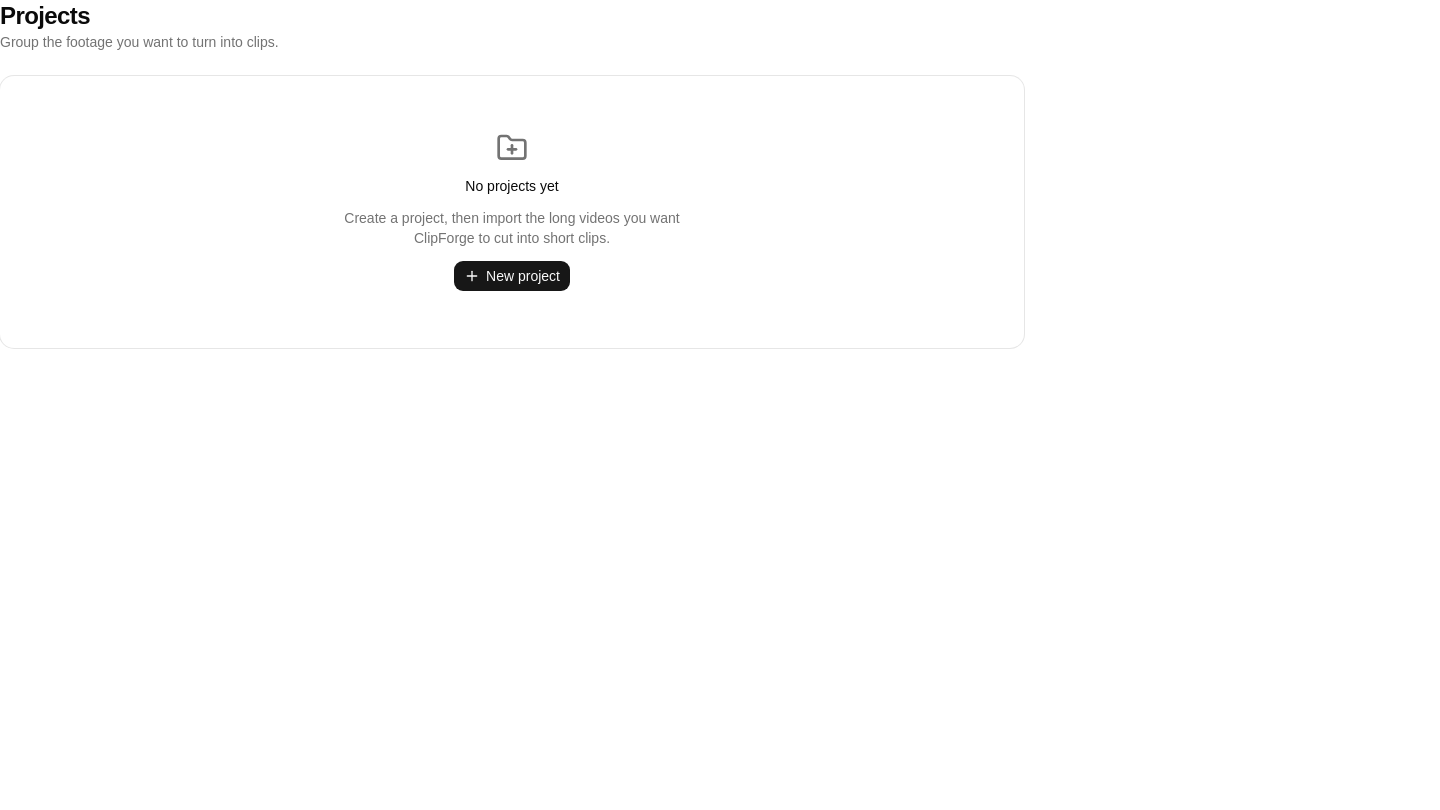
Scenario: ProjectList › creates a project and refreshes the list
The width and height of the screenshot is (1440, 810).
Step 1. Click the button "New project" → (512, 276), box left=453, top=260, right=571, bottom=292
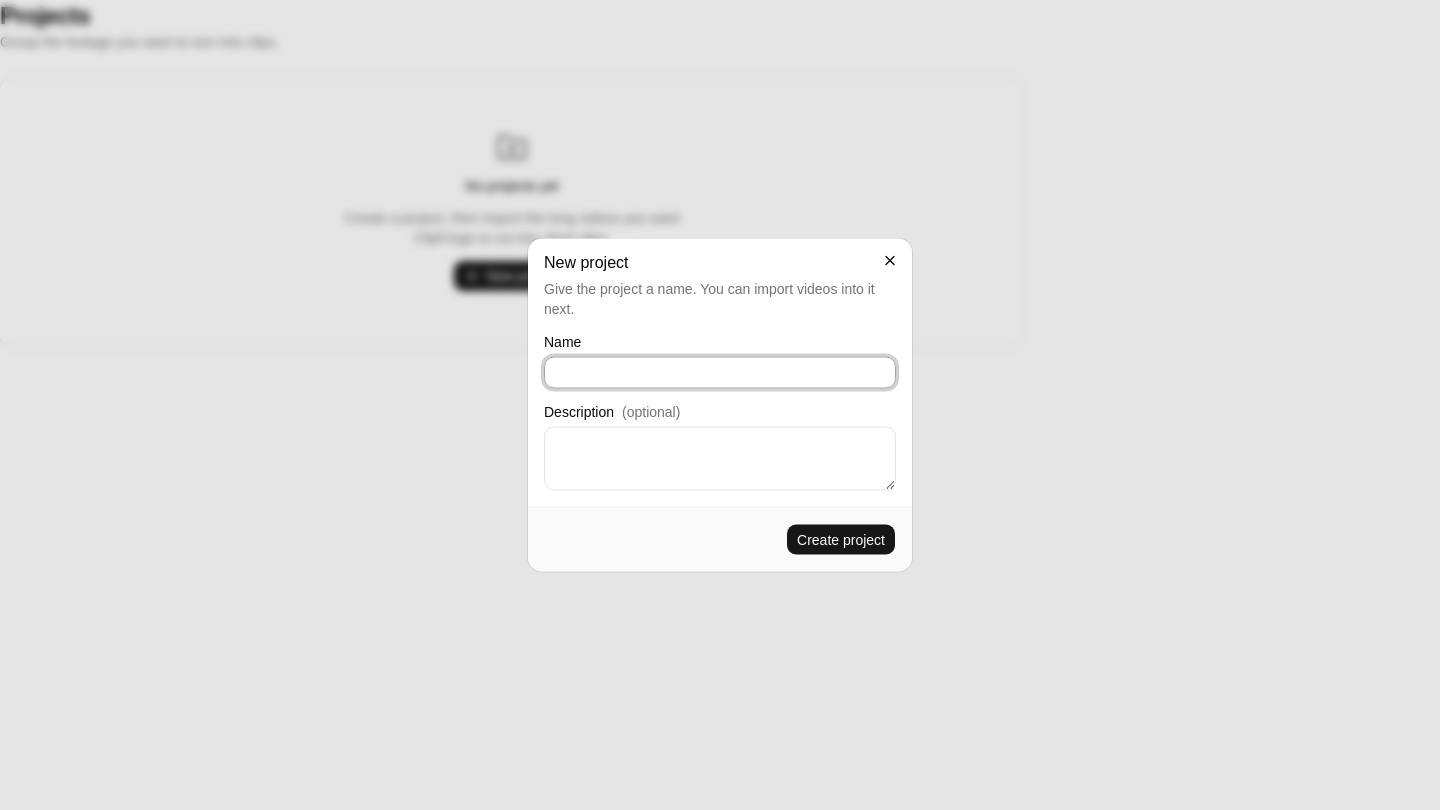
Step 2. Type "  Podcast  " into the field labelled "Name" → (720, 372), box left=544, top=356, right=896, bottom=388
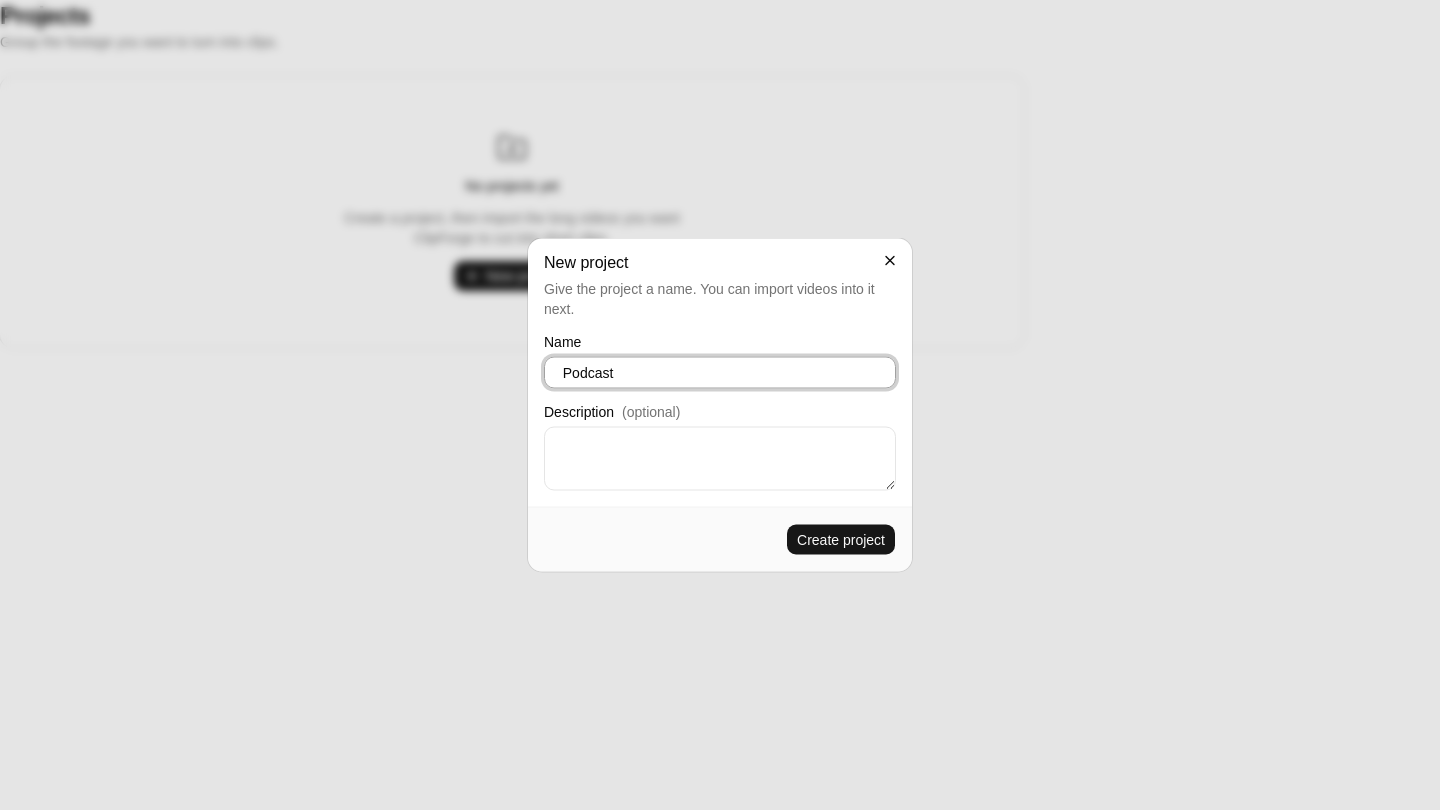
Step 3. Click the button "Create project" → (841, 540), box left=786, top=524, right=896, bottom=556
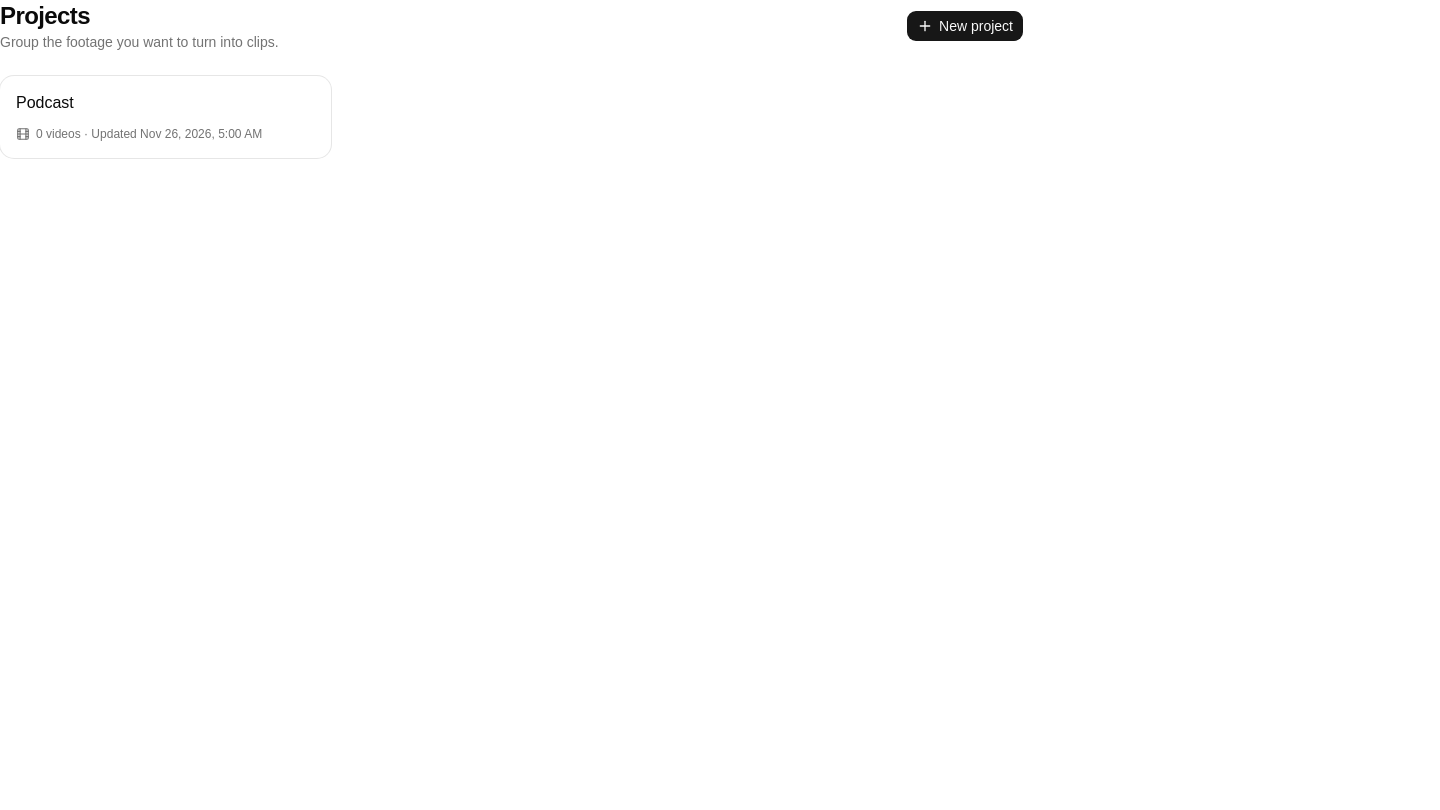
expect the link "Podcast 0 videos · Updated Nov 26, 2026, 5:00 AM" is shown: met, box left=0, top=76, right=331, bottom=158
expect the dialog is gone: met
